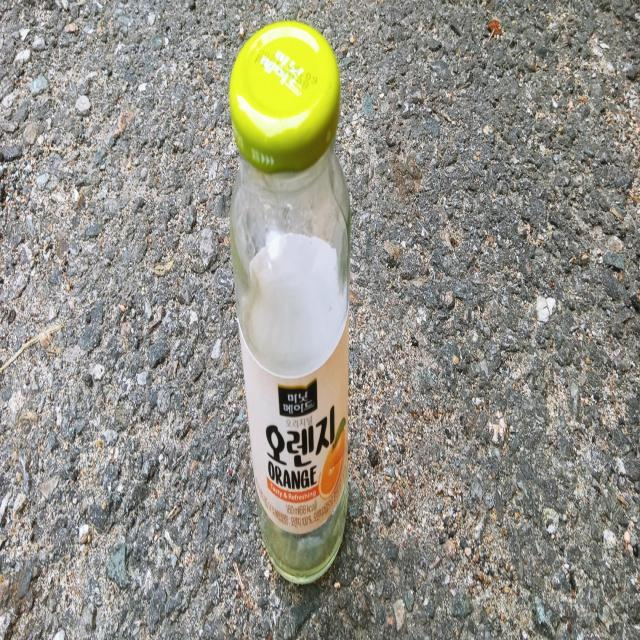glass: (229, 18, 351, 583)
